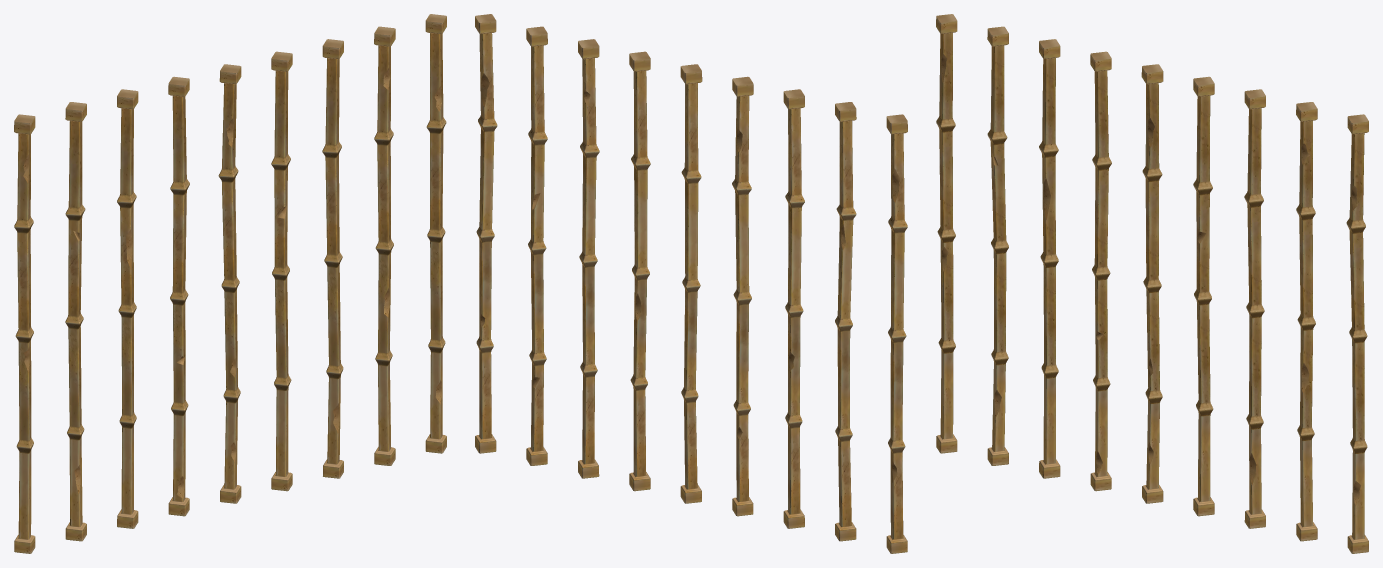
The picture shows the model from 3 angles, left to right: view 1: azimuth 30°, elevation 25°; view 2: azimuth 150°, elevation 25°; view 3: azimuth 330°, elevation 25°; orthographic projection.
Visible parts, largest first — view 1: SM_Vault_4x4_Metal_Bars_01_LOD0; view 2: SM_Vault_4x4_Metal_Bars_01_LOD0; view 3: SM_Vault_4x4_Metal_Bars_01_LOD0.
Part boxes in pixels (x1,y1,x2,y2): SM_Vault_4x4_Metal_Bars_01_LOD0: (14,14,446,553); SM_Vault_4x4_Metal_Bars_01_LOD0: (475,14,907,553); SM_Vault_4x4_Metal_Bars_01_LOD0: (936,14,1368,553).
Size of the model in its own units: 4.2 by 4 by 0.2172.
Materials: 1 (1 with a texture image).
